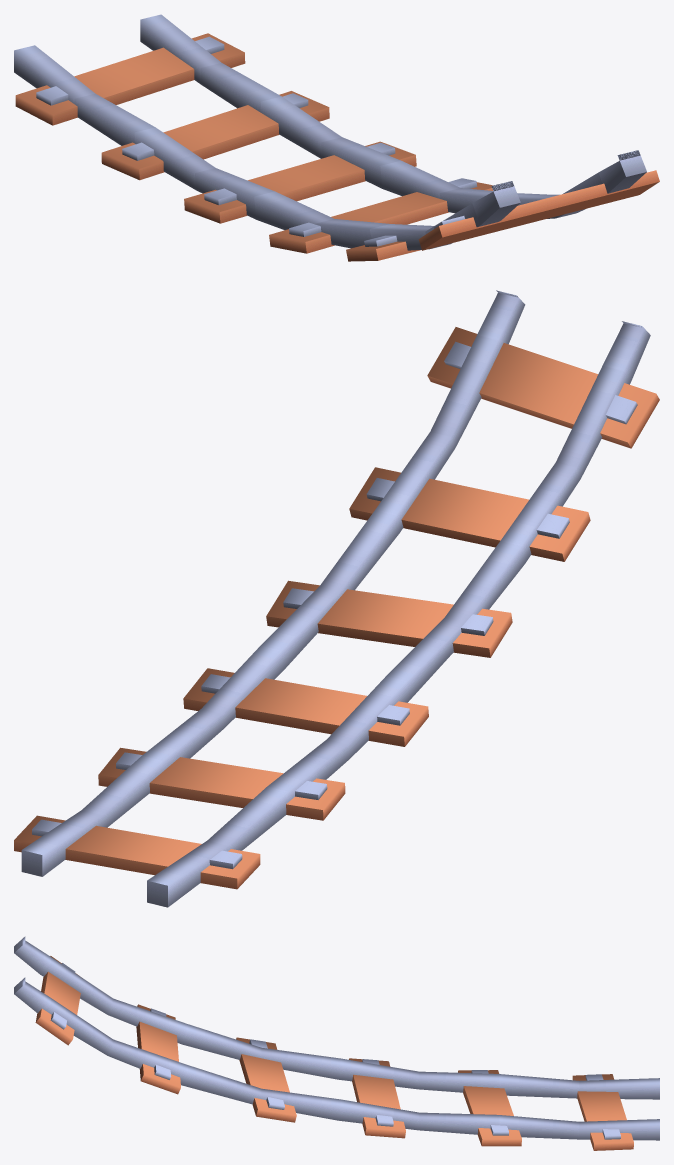
Rendered from railroad-damaged-straight-hill-beginning.glb.
3 renders of one model, top to bottom at view 1: azimuth 30°, elevation 25°; view 2: azimuth 150°, elevation 25°; view 3: azimuth 270°, elevation 25°, orthographic. The views are drawn at different scales.
Parts seen in each view (by area): view 1: railroad-damaged-straight-hill-beginning; view 2: railroad-damaged-straight-hill-beginning; view 3: railroad-damaged-straight-hill-beginning.
Boxes of the visible parts, box(x1,y1,x2,y2) form: railroad-damaged-straight-hill-beginning: box(14, 14, 659, 261); railroad-damaged-straight-hill-beginning: box(14, 290, 659, 907); railroad-damaged-straight-hill-beginning: box(14, 936, 659, 1150).
Size of the model in its own units: 1.03 by 1.07 by 4.
1 material, 1 textured.
